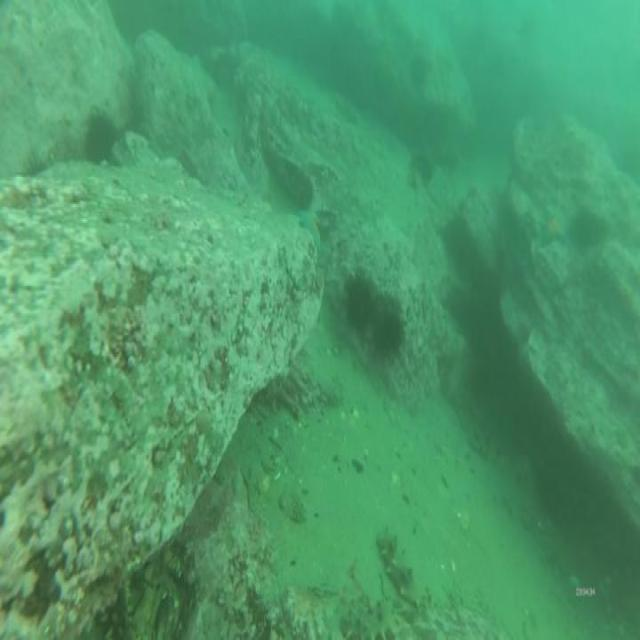echinus: (84, 112, 114, 163), (346, 276, 372, 332), (374, 300, 398, 359), (574, 209, 600, 251)
holothurian: (378, 531, 427, 607), (344, 602, 398, 640)
starfish: (295, 208, 323, 246), (541, 210, 569, 247)
